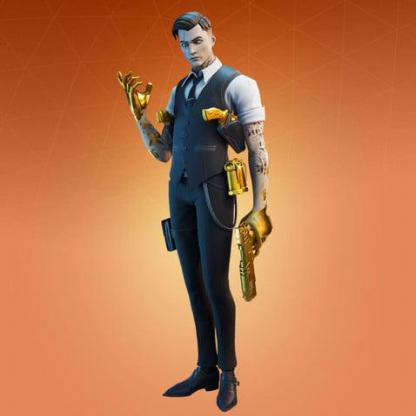person: (115, 8, 276, 413)
